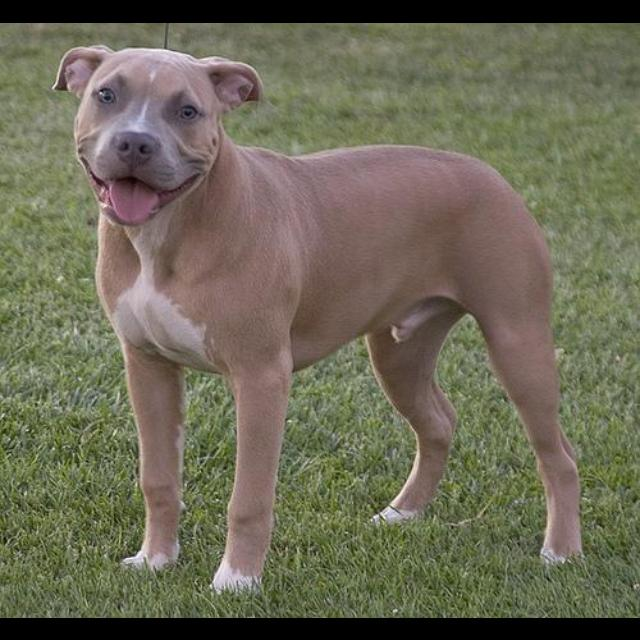amstaff: (51, 42, 586, 596)
